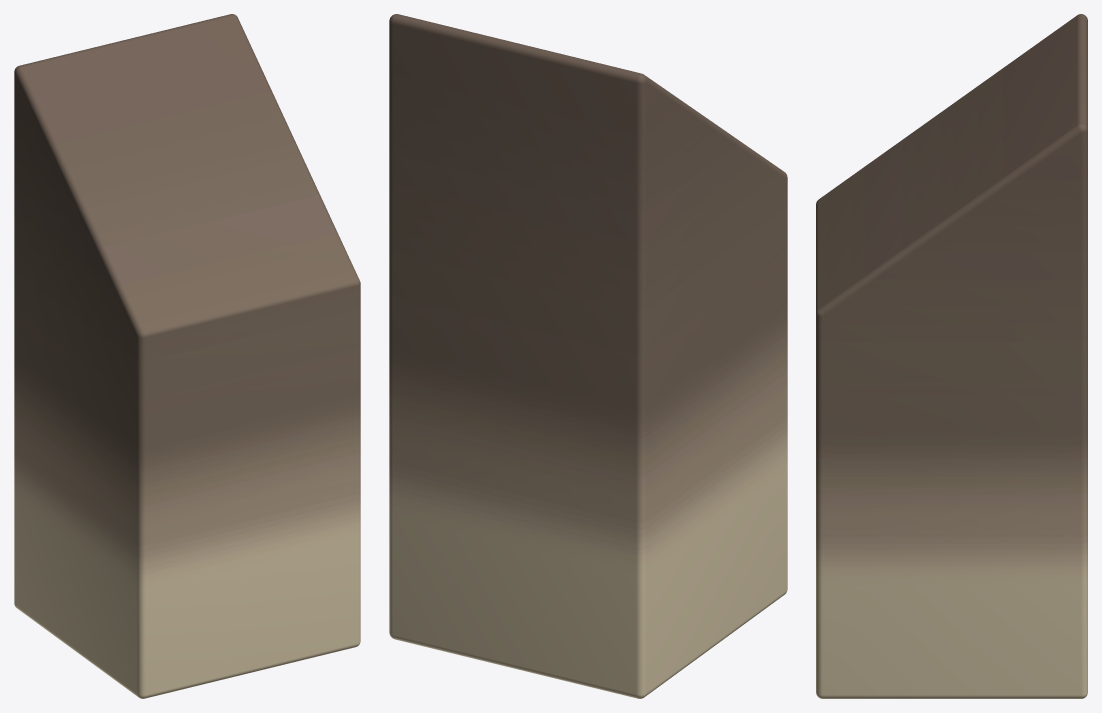
Rendered from queen-black-hd.glb.
The picture shows the model from 3 angles, left to right: view 1: azimuth 30°, elevation 25°; view 2: azimuth 150°, elevation 25°; view 3: azimuth 270°, elevation 25°; orthographic projection. The views are drawn at different scales.
Parts seen in each view (by area): view 1: MONOLITH Dáma – Kouř (černý); view 2: MONOLITH Dáma – Kouř (černý); view 3: MONOLITH Dáma – Kouř (černý).
Boxes of the visible parts, x1,y1,x2,y2 form: MONOLITH Dáma – Kouř (černý): (14, 14, 360, 698); MONOLITH Dáma – Kouř (černý): (389, 14, 787, 698); MONOLITH Dáma – Kouř (černý): (816, 14, 1087, 698).
Bounding box in the file's own units: 0.6178 × 1.44 × 0.6178.
Materials: 1 (1 with a texture image).
